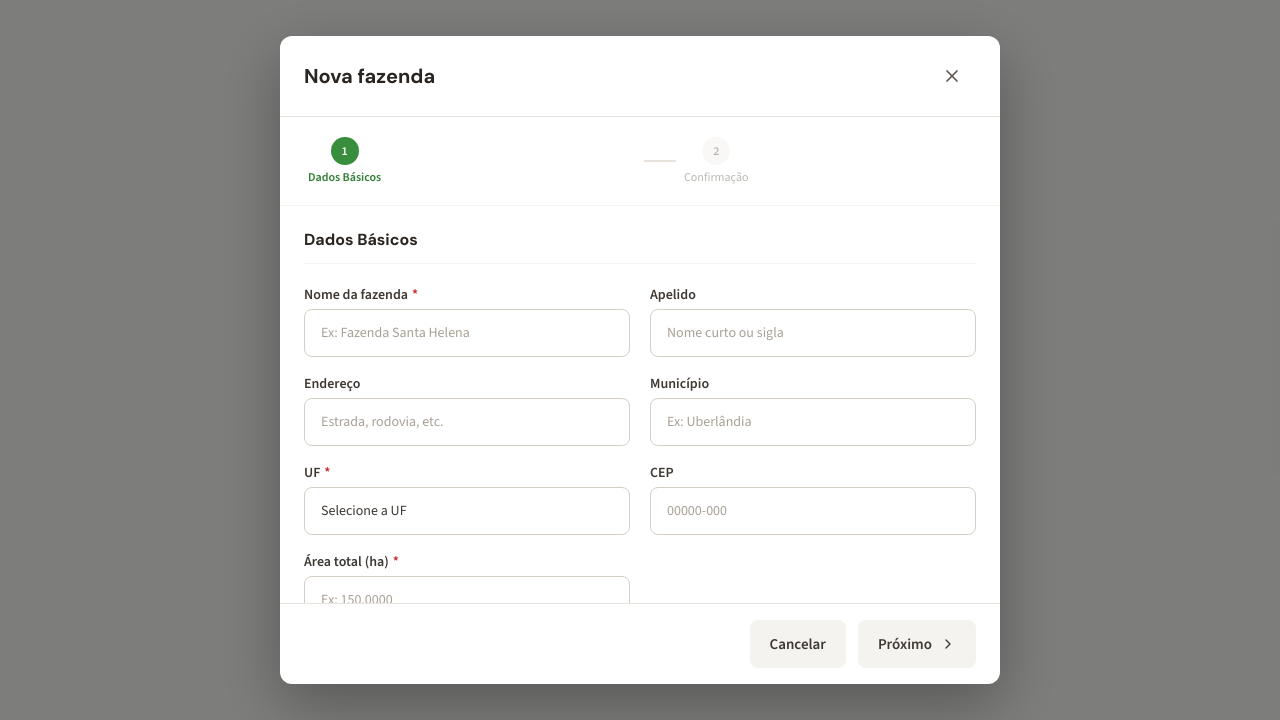
Test: CreateFarmModal › should not advance when required fields are empty
What coordinates should you click on to do the following:
click the button "Próximo"
I would click on:
 (917, 644)
Its box is [858,620,976,668].
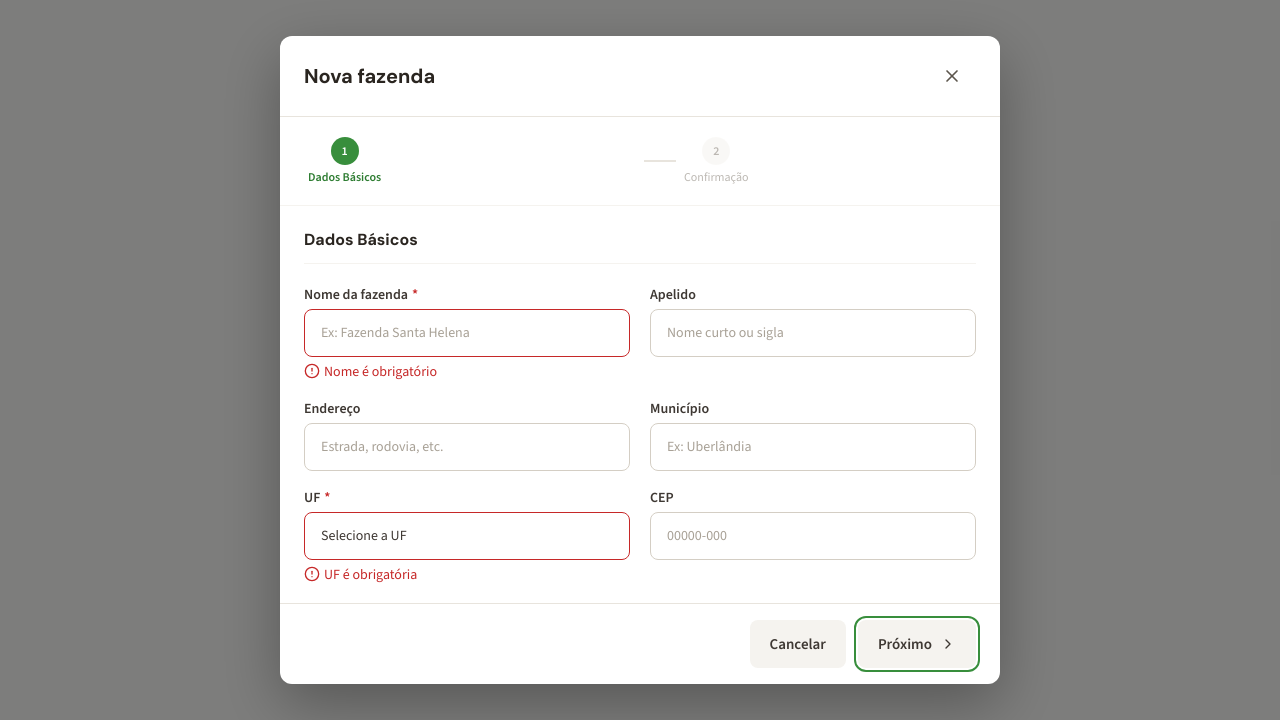
Expected: the heading "Dados Básicos" is shown, [304,230,976,264]
Now the text "Nome é obrigatório" is shown, box [304,362,437,381]
Now the text "UF é obrigatória" is shown, box [304,565,417,584]
